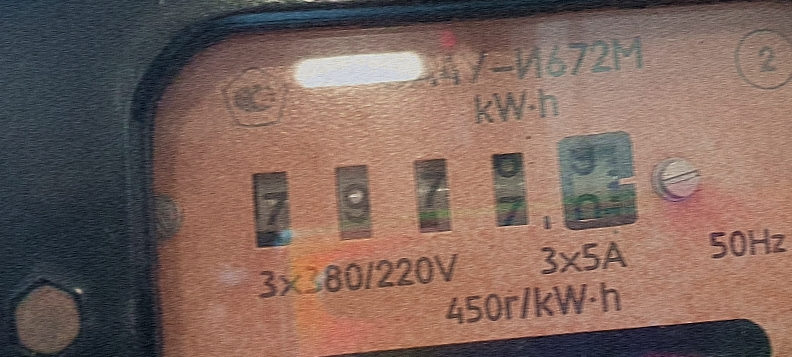0: (570, 182, 606, 224)
7: (415, 162, 450, 208), (258, 183, 292, 228), (494, 187, 528, 226)
9: (337, 174, 375, 223), (566, 135, 600, 174)
screen: (227, 104, 667, 284)
